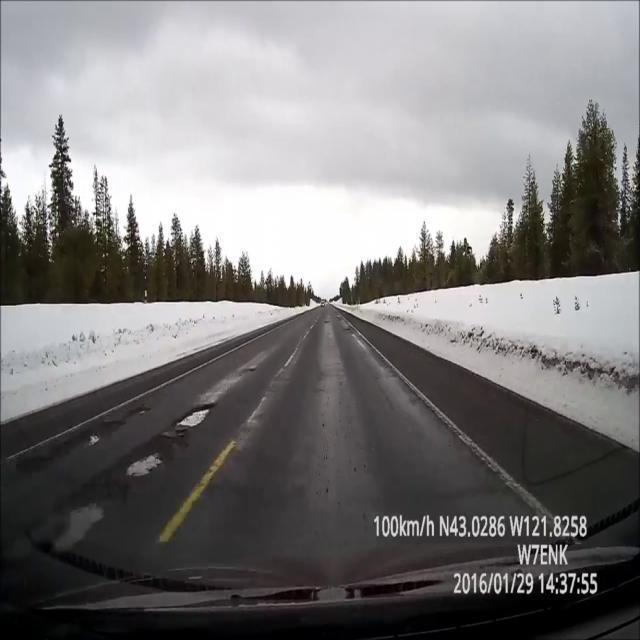pothole: (47, 497, 108, 568), (124, 446, 167, 481), (174, 402, 217, 431), (241, 367, 256, 372), (336, 314, 342, 321), (342, 328, 350, 333), (325, 320, 330, 323)
